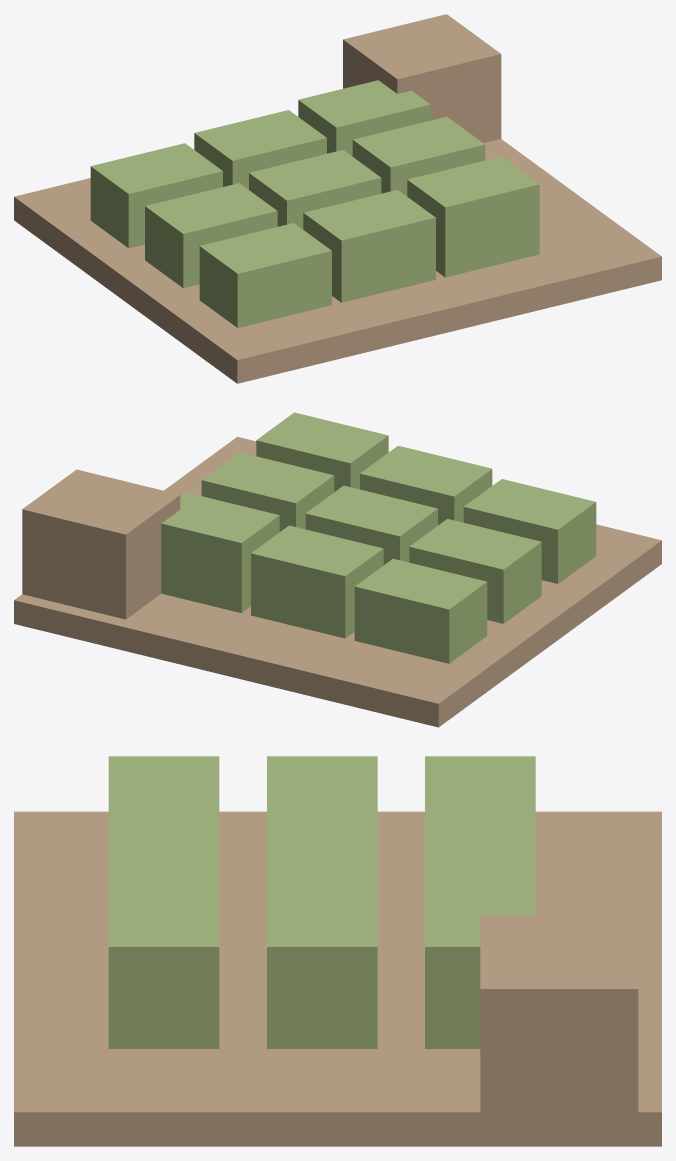
Rendered from emmer_field.glb.
3 renders of one model, top to bottom at view 1: azimuth 30°, elevation 25°; view 2: azimuth 150°, elevation 25°; view 3: azimuth 270°, elevation 25°, orthographic. The views are drawn at different scales.
Parts seen in each view (by area): view 1: emmer_field_root; view 2: emmer_field_root; view 3: emmer_field_root.
Boxes of the visible parts, x1,y1,x2,y2 form: emmer_field_root: (14, 14, 661, 383); emmer_field_root: (14, 412, 661, 727); emmer_field_root: (14, 756, 661, 1146).
Bounding box in the file's own units: 2.25 × 0.585 × 2.05.
